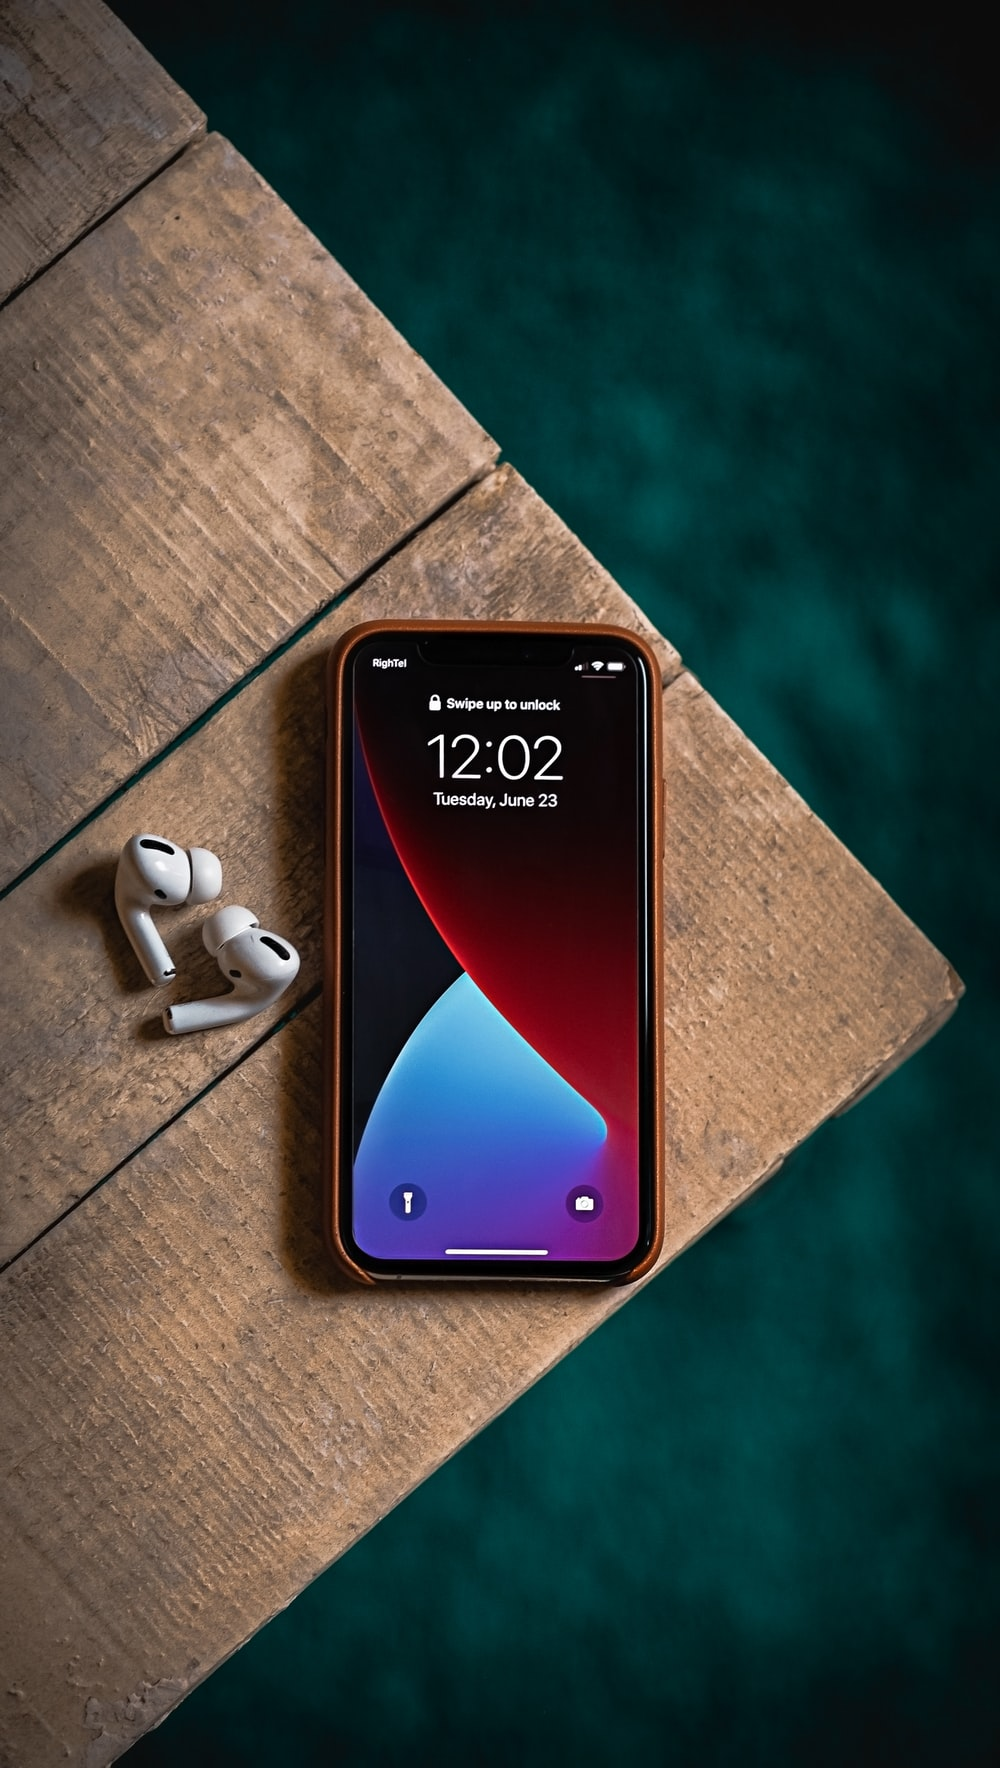Cell Phone: (323, 629, 678, 1314)
